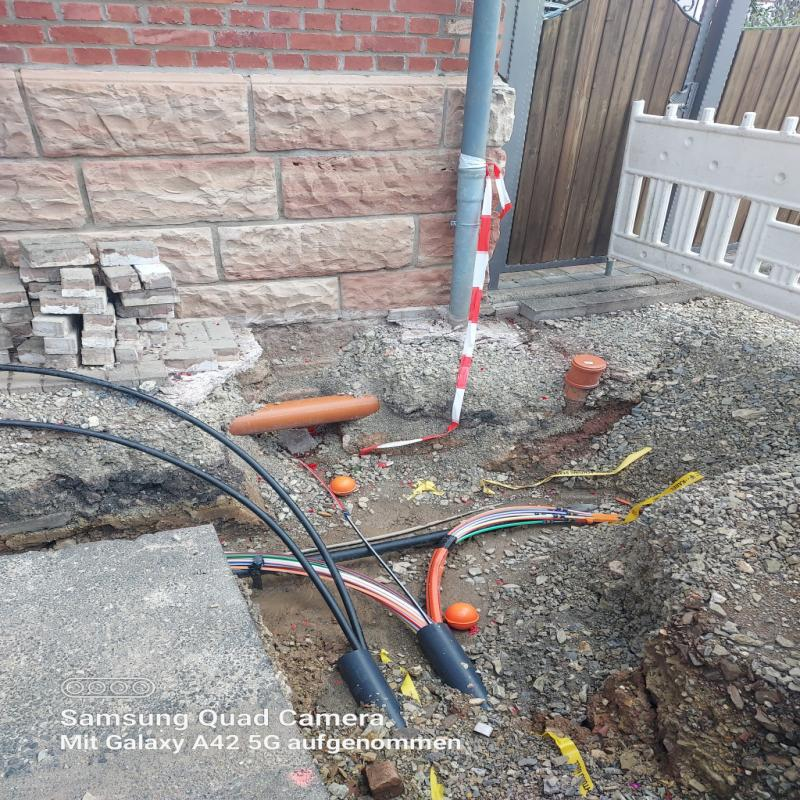Kugelmarker: (445, 602, 478, 629), (331, 476, 355, 495)
Orang-Speednetrohrchen: (427, 507, 616, 623)
